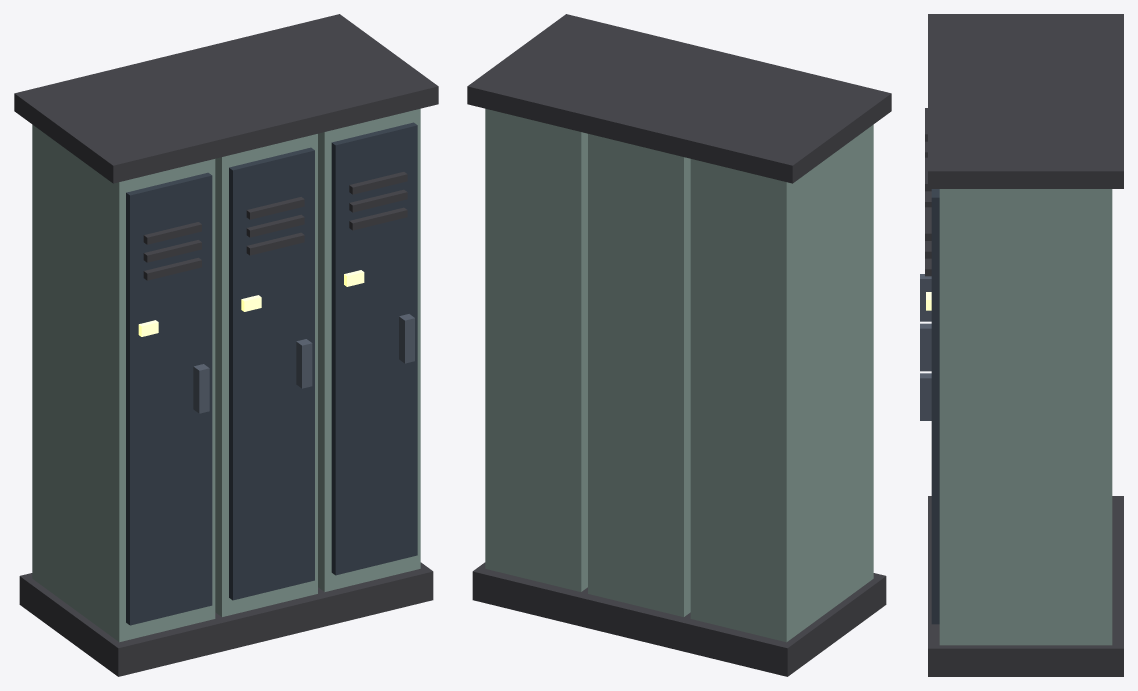
Rendered from storage_locker.glb.
The picture shows the model from 3 angles, left to right: view 1: azimuth 30°, elevation 25°; view 2: azimuth 150°, elevation 25°; view 3: azimuth 270°, elevation 25°; orthographic projection.
Parts seen in each view (by area): view 1: PROP_StorageLocker_Mesh; view 2: PROP_StorageLocker_Mesh; view 3: PROP_StorageLocker_Mesh.
Boxes of the visible parts, box(x1,y1,x2,y2) form: PROP_StorageLocker_Mesh: box(14, 14, 438, 676); PROP_StorageLocker_Mesh: box(467, 14, 891, 676); PROP_StorageLocker_Mesh: box(920, 14, 1123, 676).
Size of the model in its own units: 0.95 by 1.43 by 0.52.
